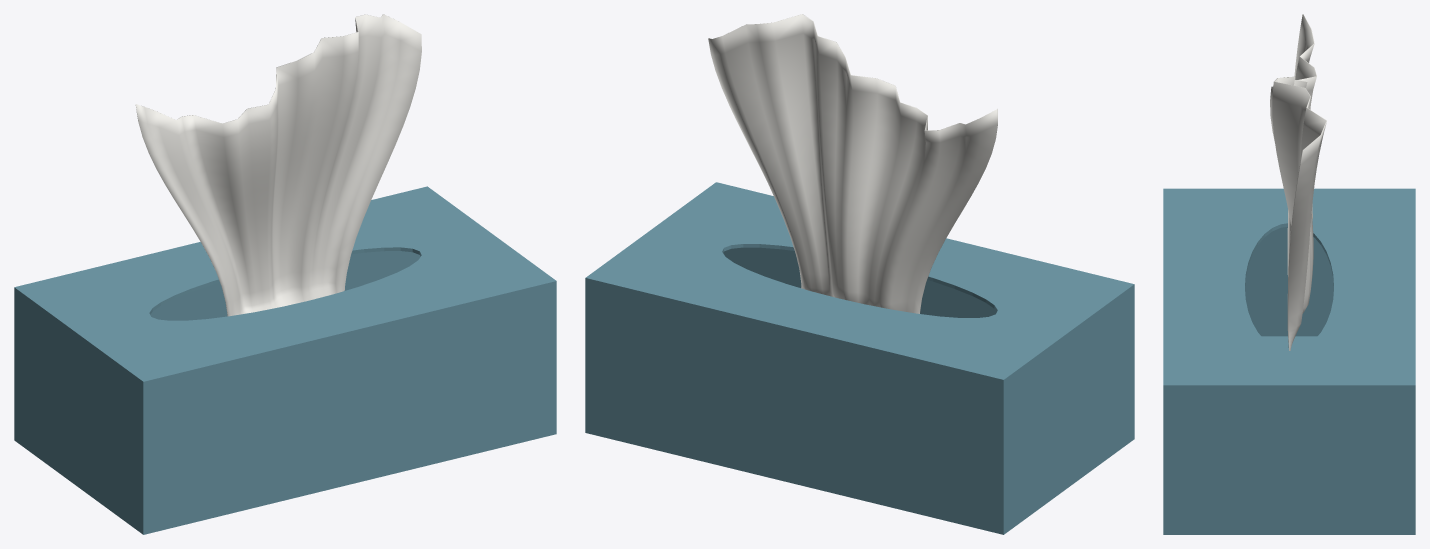
Rendered from A-NEW-20261027-TISSUE-BOX-001_LOD1_R2.fbx.
3 renders of one model, left to right at view 1: azimuth 30°, elevation 25°; view 2: azimuth 150°, elevation 25°; view 3: azimuth 270°, elevation 25°, orthographic. The views are drawn at different scales.
Parts seen in each view (by area): view 1: plain hollow tissue carton, one thin folded emerging tissue; view 2: plain hollow tissue carton, one thin folded emerging tissue; view 3: plain hollow tissue carton, one thin folded emerging tissue.
Part boxes in pixels (left/top/right/bottom): plain hollow tissue carton: left=14, top=186, right=556, bottom=534; one thin folded emerging tissue: left=135, top=14, right=421, bottom=316; plain hollow tissue carton: left=585, top=182, right=1134, bottom=534; one thin folded emerging tissue: left=708, top=14, right=997, bottom=313; plain hollow tissue carton: left=1163, top=188, right=1415, bottom=534; one thin folded emerging tissue: left=1270, top=14, right=1326, bottom=350.
Bounding box in the file's own units: 24 × 21.93 × 13.
